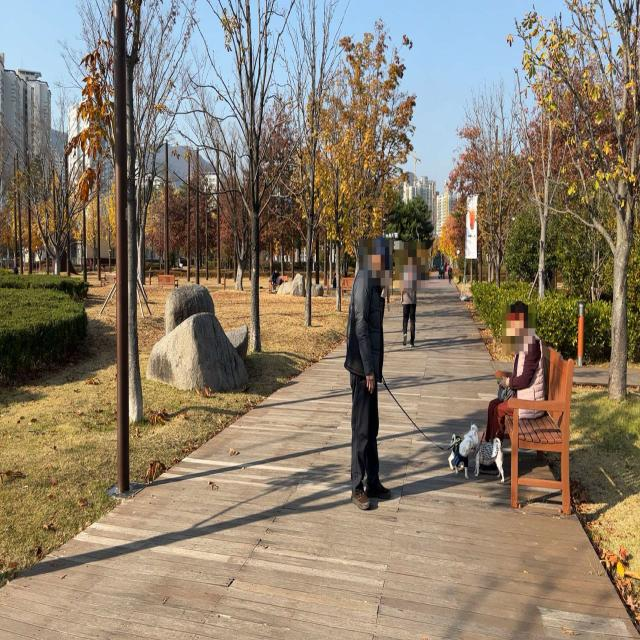Leashed_Dog: (371, 365, 474, 481), (466, 407, 506, 484)
